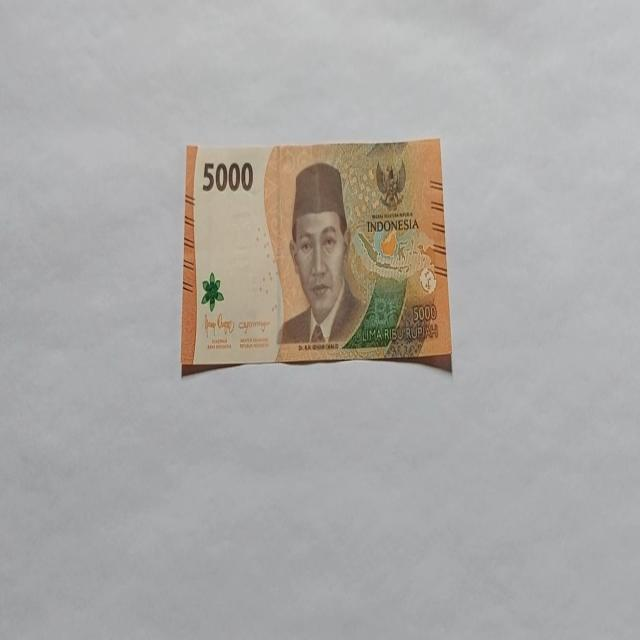lima ribu rupiah: (180, 138, 454, 376), (276, 160, 366, 348)
